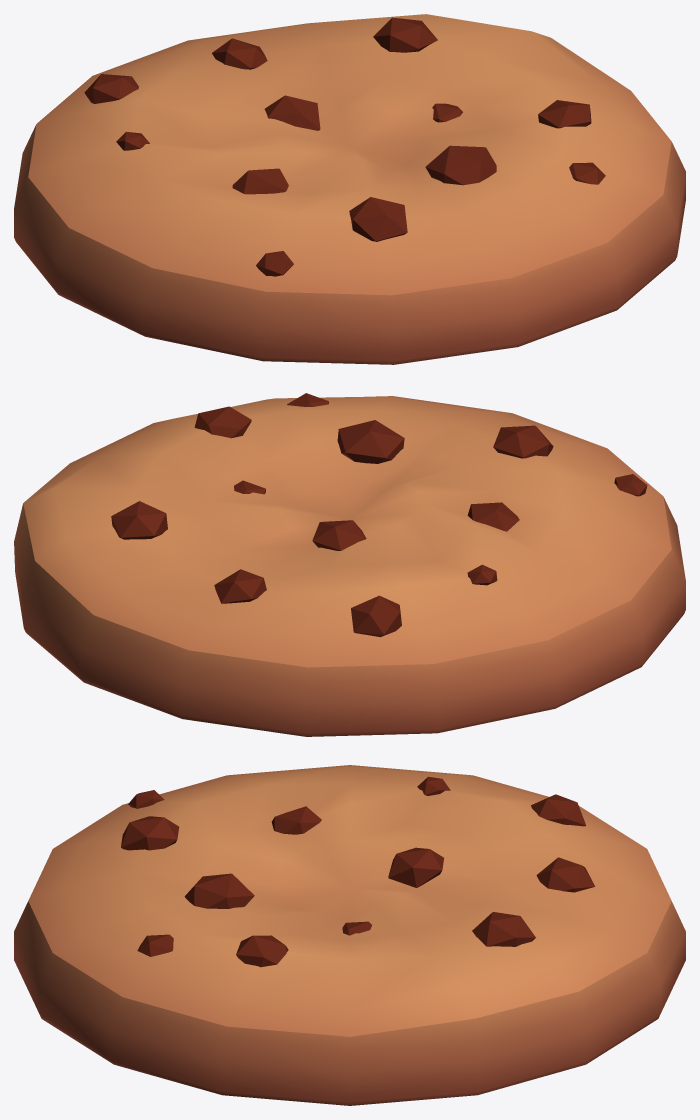
The model's file is Cookie.fbx.
3 views of the same model, one above another, from view 1: azimuth 30°, elevation 25°; view 2: azimuth 150°, elevation 25°; view 3: azimuth 270°, elevation 25° (orthographic).
Parts seen in each view (by area): view 1: Cookie; view 2: Cookie; view 3: Cookie.
Boxes of the visible parts, <box> form: Cookie: <box>14,14,685,364</box>; Cookie: <box>14,393,685,736</box>; Cookie: <box>14,765,685,1105</box>.
Bounding box in the file's own units: 24.96 × 4.68 × 24.96.
